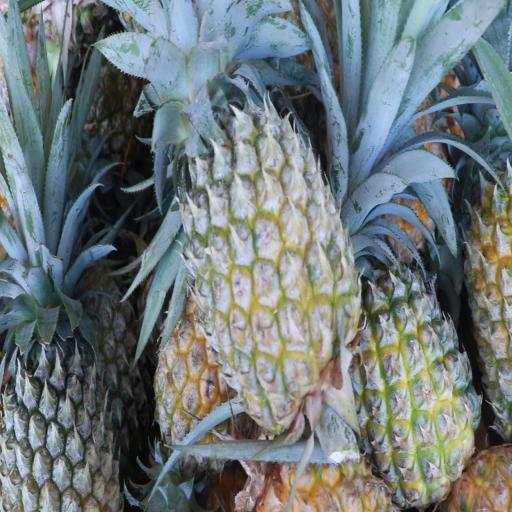------------------------------: (185, 93, 356, 416)
Pineapple - v8 v1: (353, 270, 472, 497), (156, 305, 233, 446)
